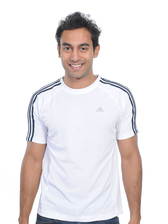clothoes: (20, 74, 140, 218)
